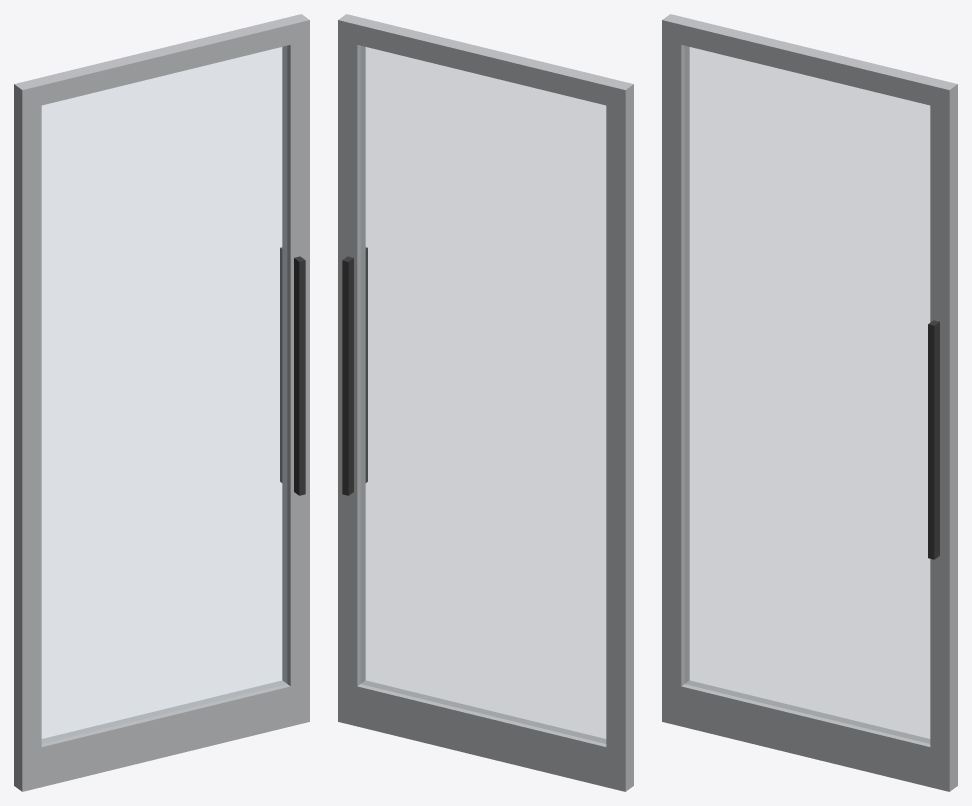
Rendered from mlo_door_sliding_glass.glb.
The picture shows the model from 3 angles, left to right: view 1: azimuth 30°, elevation 25°; view 2: azimuth 150°, elevation 25°; view 3: azimuth 330°, elevation 25°; orthographic projection.
Visible parts, largest first — view 1: Door_Sliding_Glass; view 2: Door_Sliding_Glass; view 3: Door_Sliding_Glass.
Part boxes in pixels (box(x1,y1,x2,y2)): Door_Sliding_Glass: box(14, 14, 309, 791); Door_Sliding_Glass: box(338, 14, 633, 791); Door_Sliding_Glass: box(662, 14, 957, 791).
Size of the model in its own units: 0.9 by 2.1 by 0.105.
